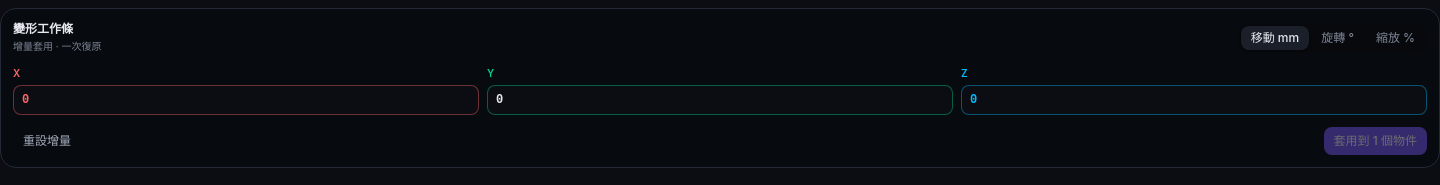
it: BatchTransformPanel › resets every retained mode explicitly
Replace the text in the number field named "移動 X（mm）" with "10" at x=246, y=100, box [13,85,479,115]
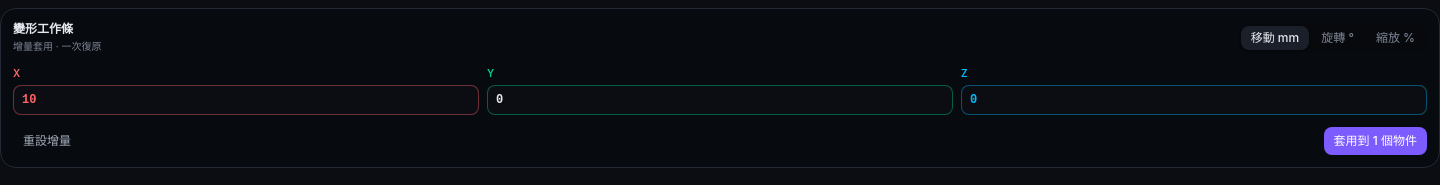
Click the button "重設增量" at x=47, y=141, box [13,127,81,155]
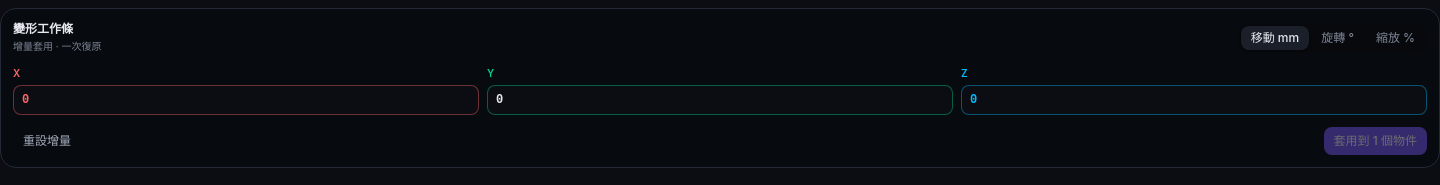
Now the number field named "移動 X（mm）" holds "0", box [13,85,479,115]
